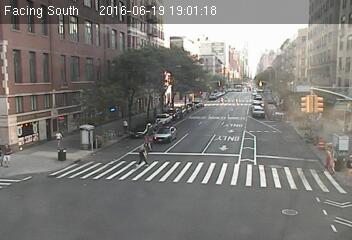neg: (182, 126, 210, 164), (73, 120, 92, 144), (323, 74, 341, 98), (259, 129, 275, 151), (317, 29, 333, 51), (307, 111, 321, 130)
pos: (320, 150, 339, 175), (1, 142, 18, 167), (134, 144, 151, 166), (52, 128, 68, 149), (118, 116, 133, 136)
